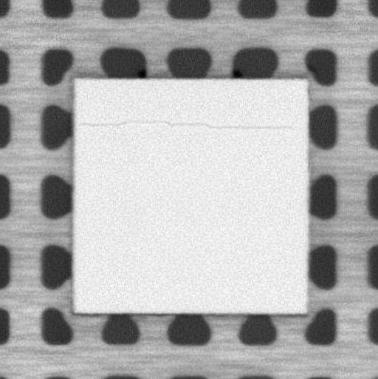DIE_CRACK: (82, 117, 293, 130)
